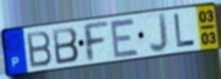B: (51, 26, 81, 66), (25, 29, 54, 70)
E: (108, 17, 141, 60)
F: (80, 20, 111, 64)
J: (148, 12, 170, 55)
L: (173, 12, 197, 50)
